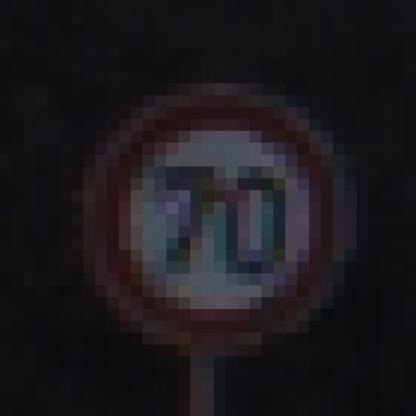Speed Limit -70-: (74, 71, 379, 378)
